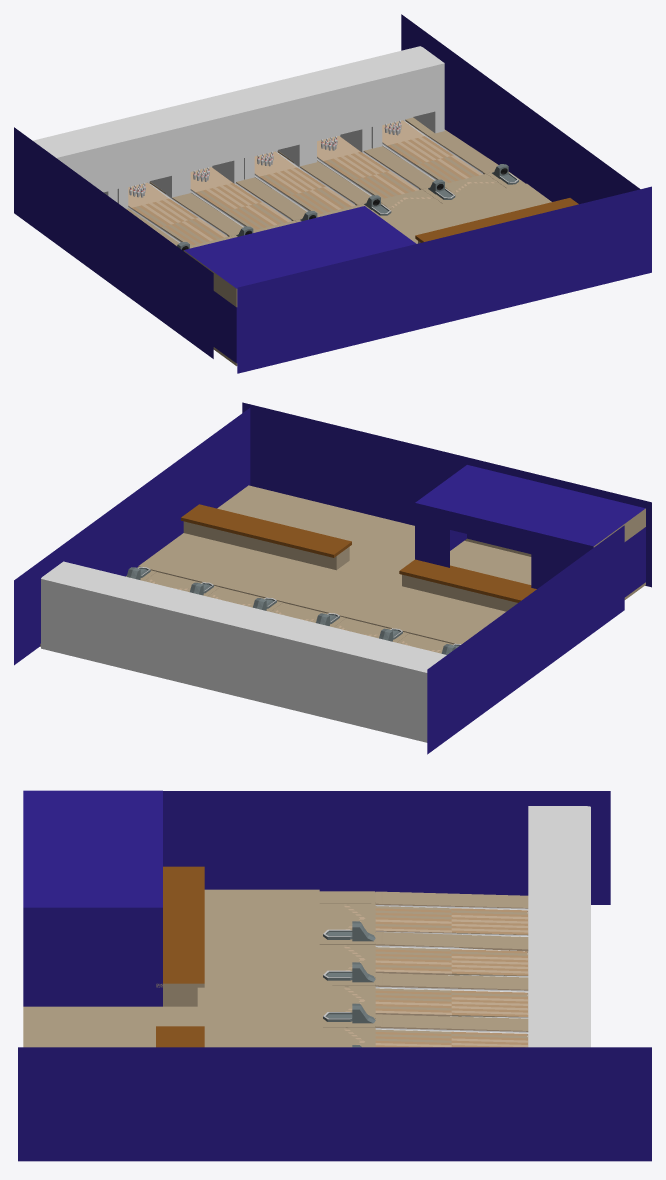
Rendered from bowling_alley.fbx.
3 renders of one model, top to bottom at view 1: azimuth 30°, elevation 25°; view 2: azimuth 150°, elevation 25°; view 3: azimuth 270°, elevation 25°, orthographic. The views are drawn at different scales.
Visible parts, largest first — view 1: Plane.002, Plane, Cube.036, Plane.001, Cube.042, Cube.040, Cube.041, Cube.038, Cube.039, Cube.037, Cube.025, Cube.013 (+15 smaller); view 2: Cube.036, Plane.002, Plane, Plane.001, Cube.040, Cube.042, Cube.041, Cube.038, Cube.037, Cube.039, Cube.021, Cube.033 (+3 smaller); view 3: Plane.001, Cube.036, Plane, Cube.008, Cube.013, Cube.010, Cube.001, Cube.040, Cube.037, Cube.038, Cube.039, Cube.015 (+12 smaller).
Part boxes in pixels (x1=…): Plane.002: x1=237, y1=186, x2=651, y2=373; Plane: x1=14, y1=127, x2=213, y2=358; Cube.036: x1=183, y1=183, x2=578, y2=366; Plane.001: x1=401, y1=14, x2=640, y2=204; Cube.042: x1=339, y1=46, x2=444, y2=152; Cube.040: x1=150, y1=92, x2=254, y2=198; Cube.041: x1=277, y1=61, x2=382, y2=167; Cube.038: x1=85, y1=108, x2=190, y2=202; Cube.039: x1=212, y1=78, x2=316, y2=183; Cube.037: x1=33, y1=123, x2=128, y2=208; Cube.025: x1=323, y1=151, x2=418, y2=199; Cube.013: x1=195, y1=183, x2=290, y2=230; Cube.036: x1=138, y1=465, x2=645, y2=644; Plane.002: x1=242, y1=402, x2=651, y2=587; Plane: x1=427, y1=525, x2=624, y2=754; Plane.001: x1=14, y1=408, x2=250, y2=665; Cube.040: x1=228, y1=607, x2=327, y2=713; Cube.042: x1=41, y1=561, x2=140, y2=667; Cube.041: x1=102, y1=580, x2=206, y2=682; Cube.038: x1=291, y1=624, x2=395, y2=729; Cube.037: x1=353, y1=638, x2=446, y2=742; Cube.039: x1=167, y1=592, x2=256, y2=694; Cube.021: x1=271, y1=602, x2=326, y2=622; Cube.033: x1=145, y1=572, x2=200, y2=591; Plane.001: x1=18, y1=1047, x2=651, y2=1161; Cube.036: x1=23, y1=790, x2=319, y2=1047; Plane: x1=163, y1=791, x2=610, y2=904; Cube.008: x1=319, y1=891, x2=528, y2=951; Cube.013: x1=375, y1=988, x2=528, y2=1017; Cube.010: x1=375, y1=947, x2=528, y2=975; Cube.001: x1=375, y1=906, x2=528, y2=935; Cube.040: x1=528, y1=887, x2=590, y2=940; Cube.037: x1=528, y1=806, x2=590, y2=859; Cube.038: x1=528, y1=846, x2=590, y2=899; Cube.039: x1=528, y1=934, x2=590, y2=981; Cube.015: x1=319, y1=1014, x2=528, y2=1031.
Bounding box in the file's own units: 27268 × 5711 × 27434.
